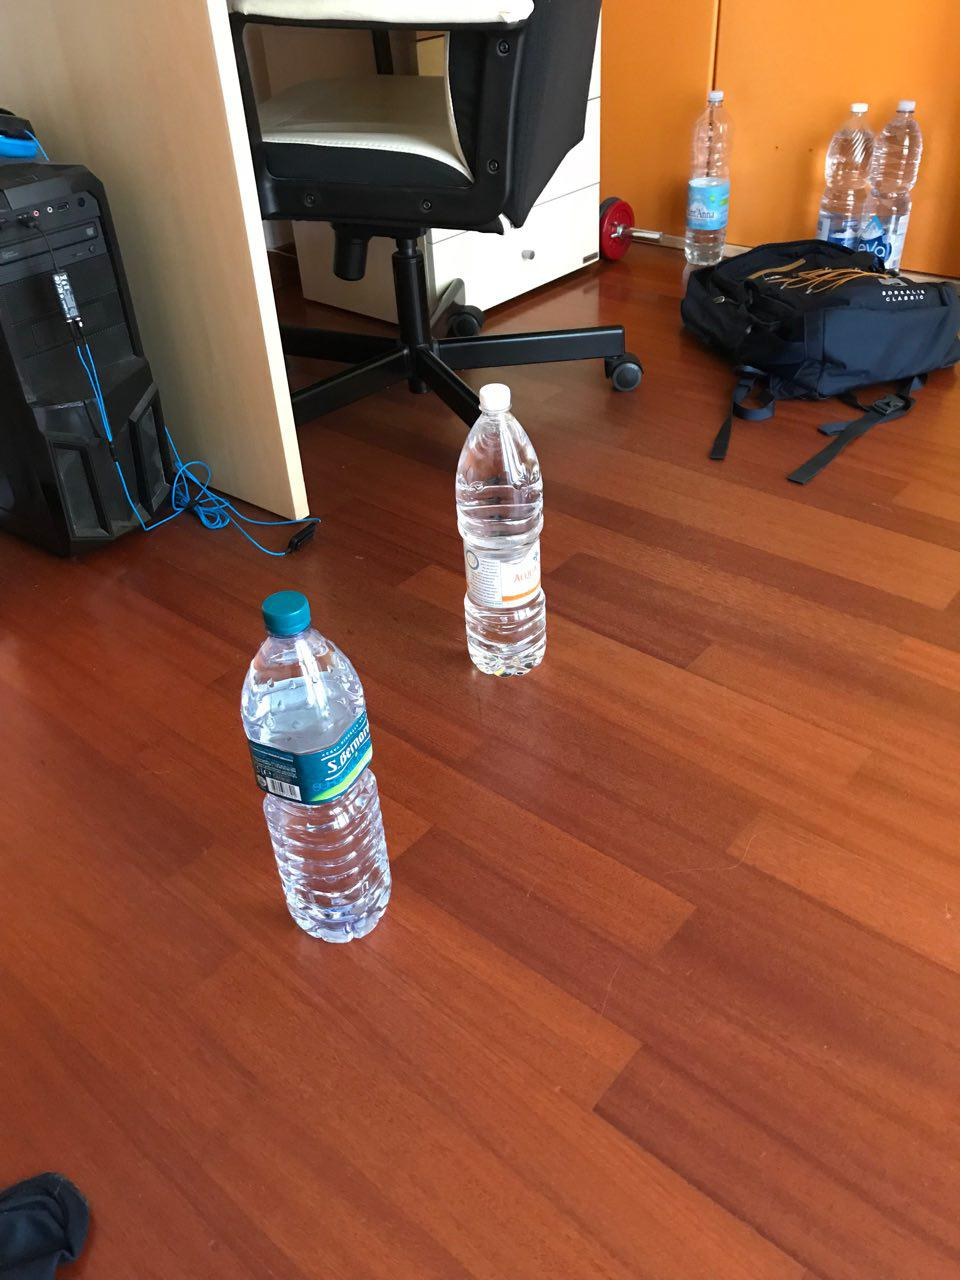san_bernardo: (239, 589, 394, 945)
